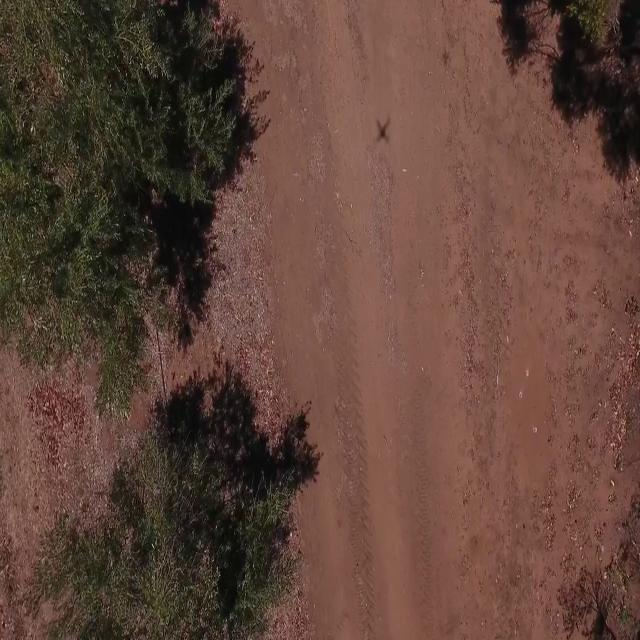trees: (0, 0, 273, 413), (0, 359, 322, 640)
